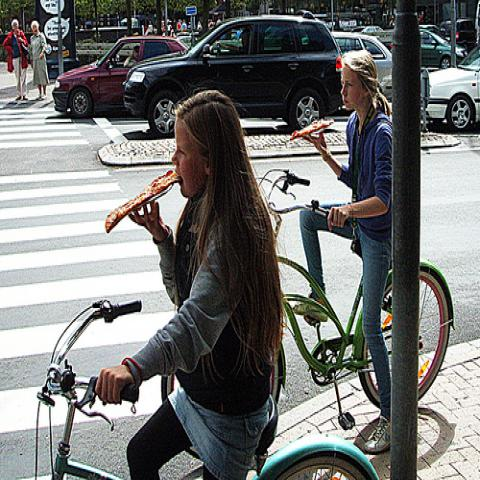car: (122, 10, 344, 137), (52, 36, 187, 119), (428, 42, 479, 130), (329, 33, 393, 84), (377, 24, 451, 50), (420, 30, 466, 68), (440, 22, 477, 53), (349, 26, 385, 34), (176, 35, 193, 47)
